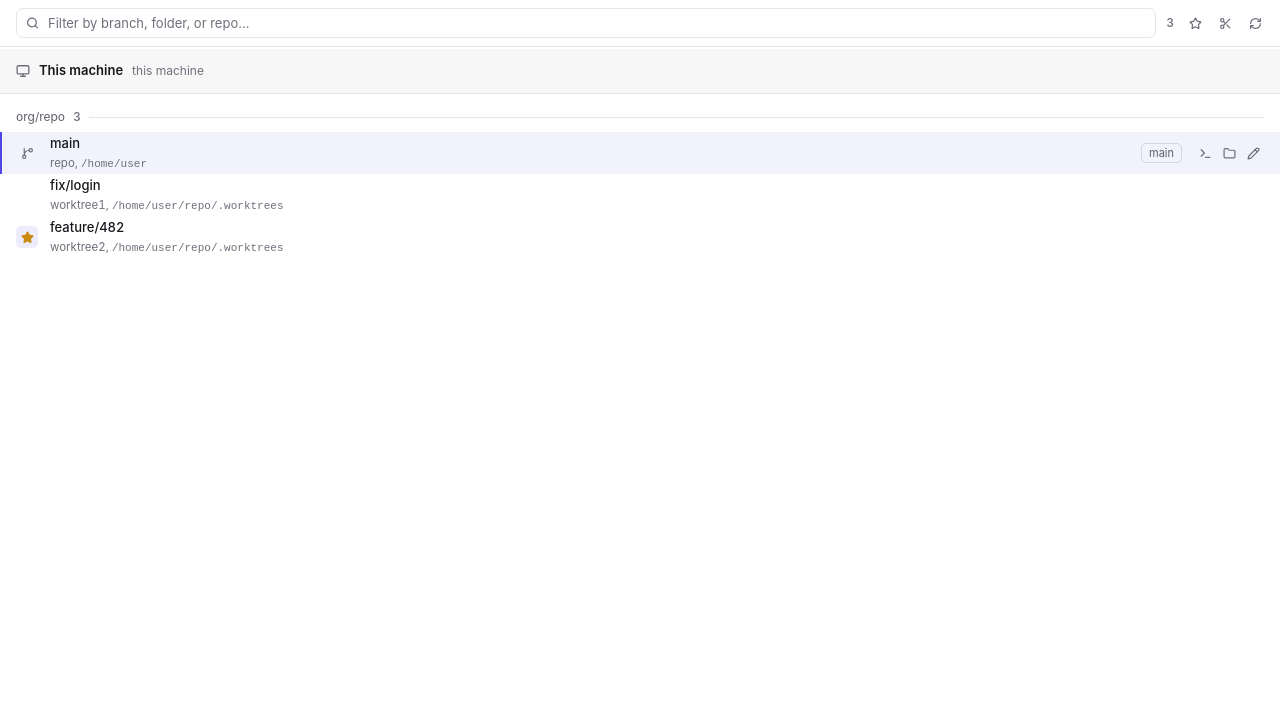
Scenario: WorktreeList (window host) › opens the prune dialog
Click the button named "prune". click: (1225, 23)
box: [1212,10,1238,36]
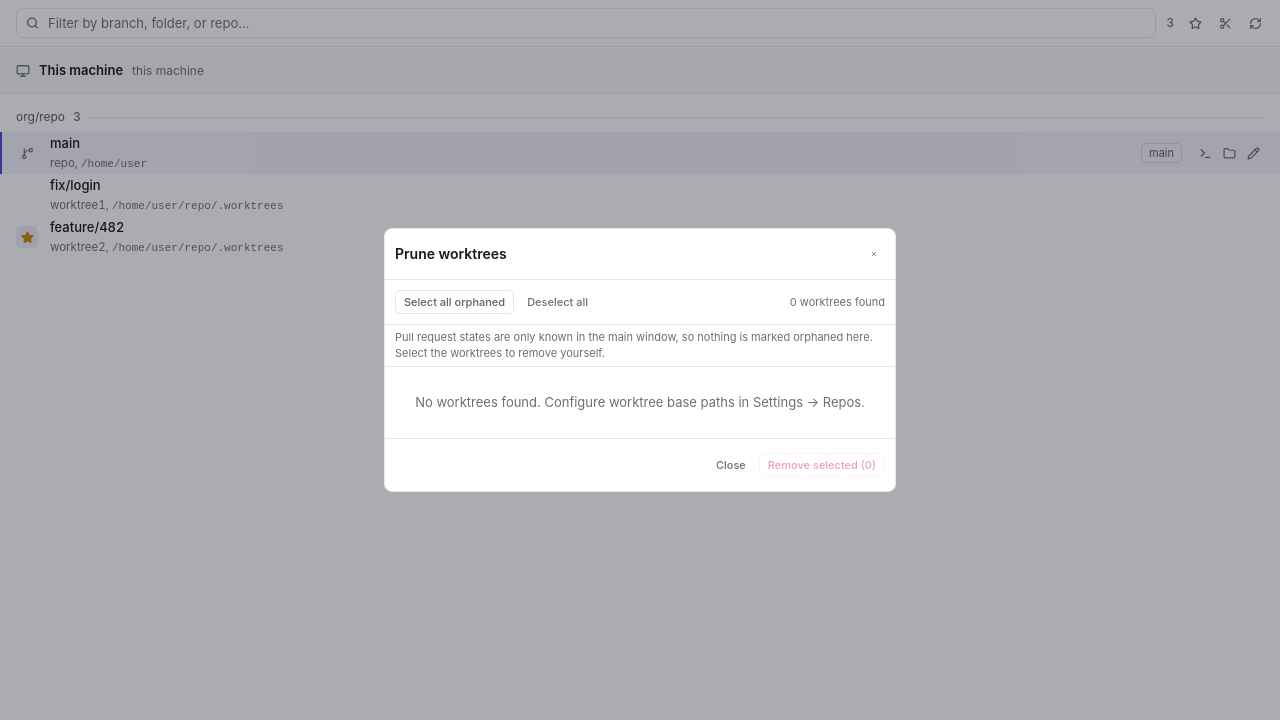
Expected: the heading "Prune worktrees" is shown, [395,244,507,264]
